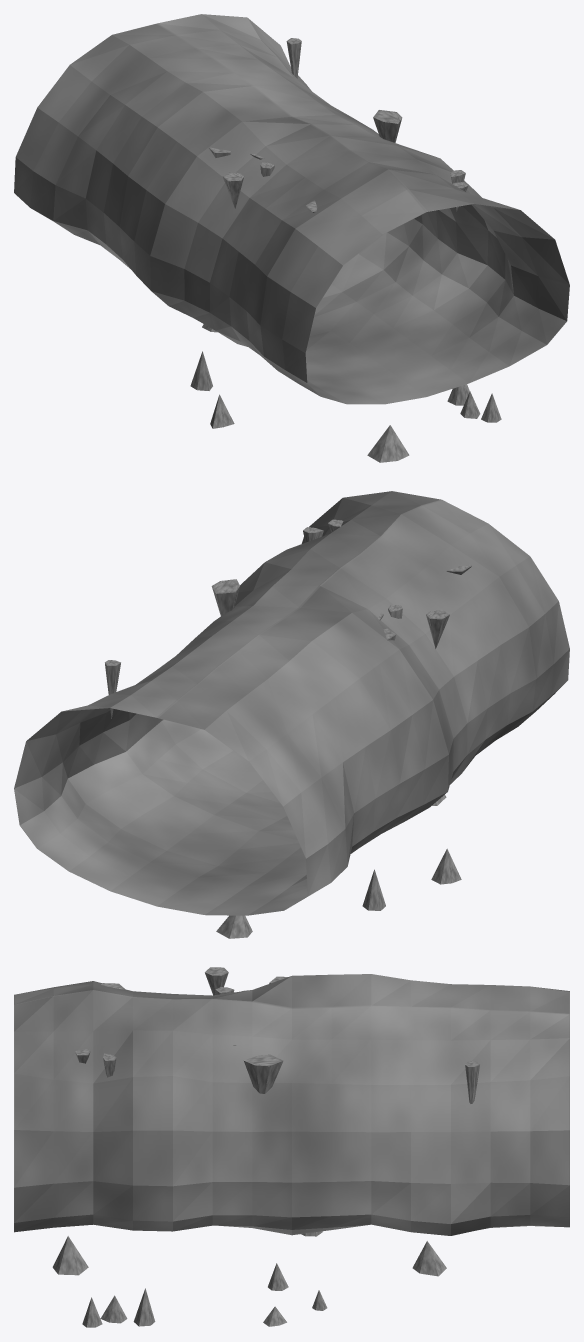
The model's file is deep-fracture-passage.glb.
3 renders of one model, top to bottom at view 1: azimuth 30°, elevation 25°; view 2: azimuth 150°, elevation 25°; view 3: azimuth 270°, elevation 25°, orthographic. The views are drawn at different scales.
Parts seen in each view (by area): view 1: PassageShell, PassageFormations; view 2: PassageShell, PassageFormations; view 3: PassageShell, PassageFormations.
Boxes of the visible parts, x1,y1,x2,y2 form: PassageShell: (14,14,569,404); PassageFormations: (190,38,501,462); PassageShell: (14,491,569,915); PassageFormations: (105,519,471,938); PassageShell: (14,974,569,1235); PassageFormations: (52,967,479,1327).
Bounding box in the file's own units: 9.88 × 8.97 × 16.
2 materials, 2 textured.
